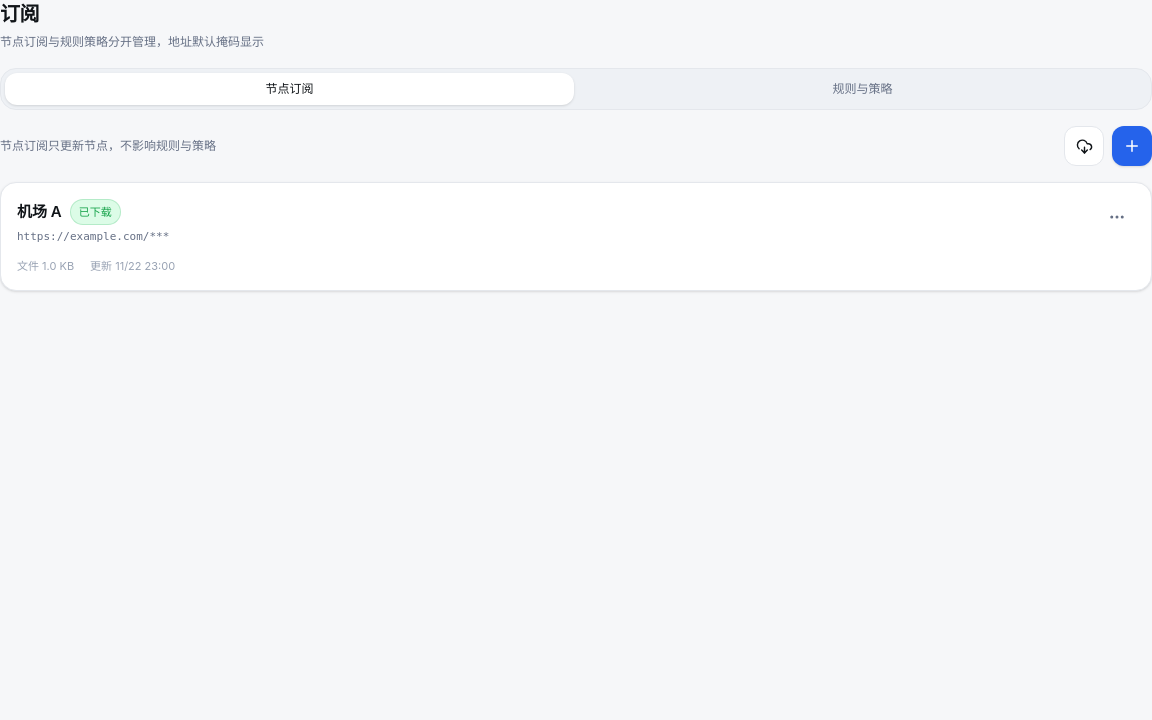
Test: SubscriptionsPage › requires a value when custom User-Agent is selected
Expected: the heading "机场 A" is shown, [17,201,62,223]
Click the button named "添加订阅".
click(1132, 146)  # box [1112,126,1151,166]
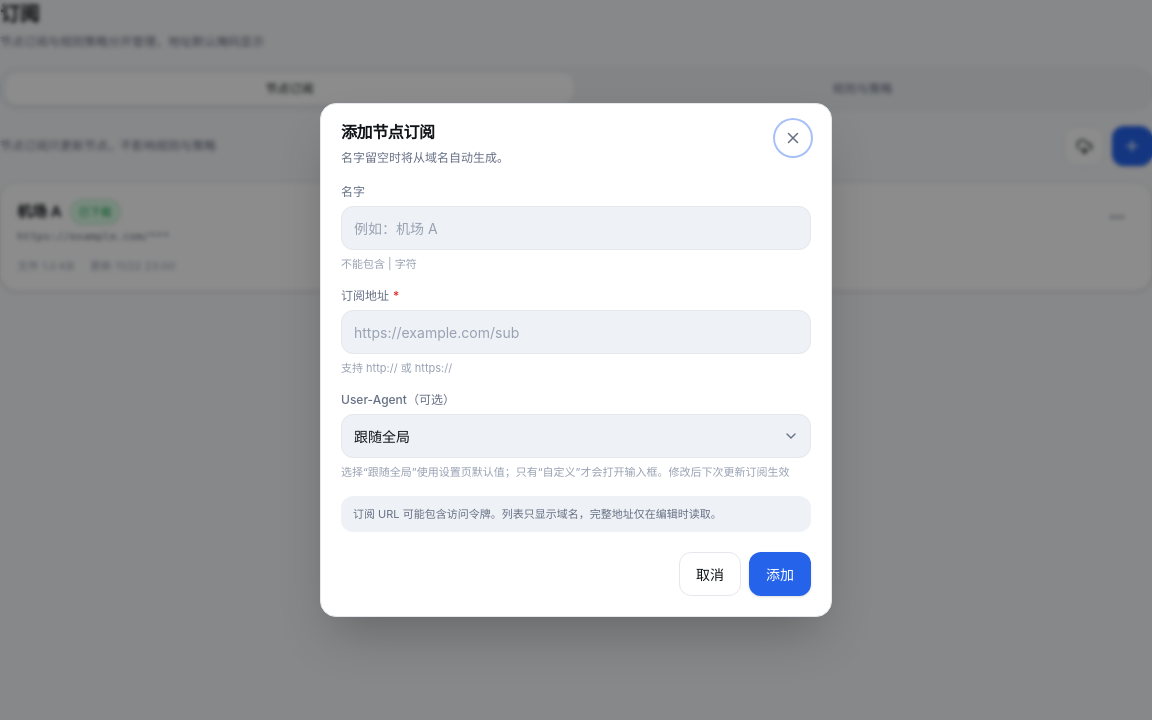
Type "测试新增" into the field labelled "名字".
click(576, 228); type("测试新增")  # box [341,206,811,250]
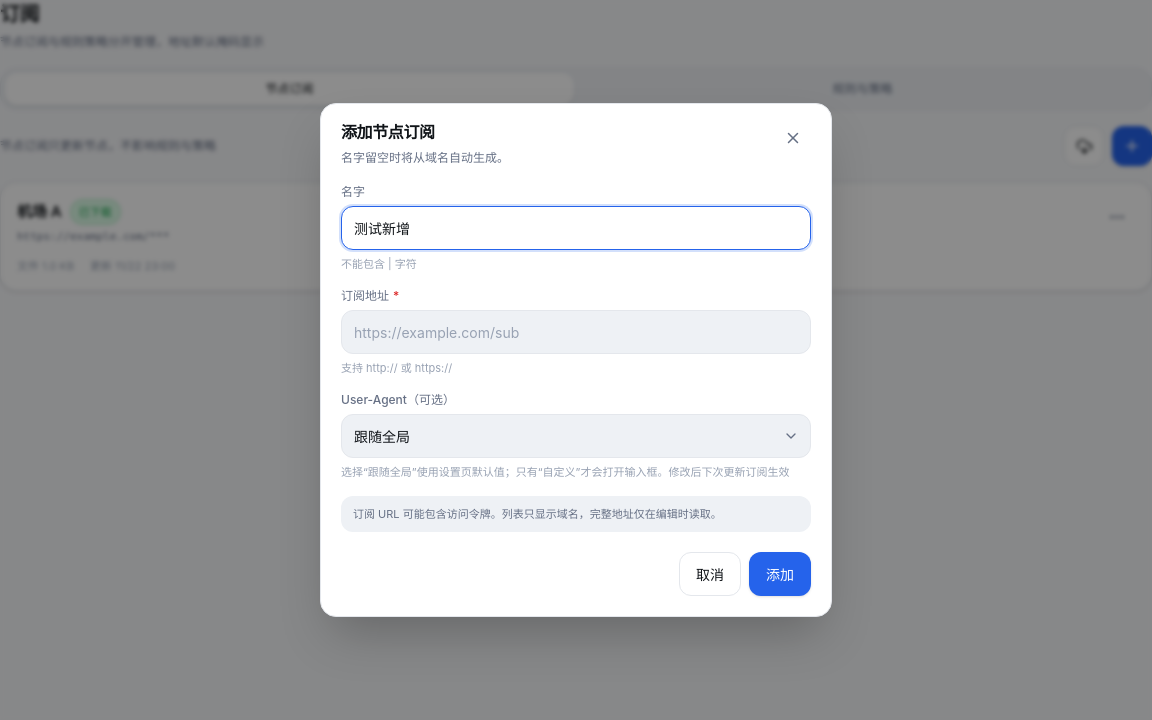
Type "https://new.example.com/sub" into the field labelled "订阅地址 *".
click(576, 332); type("https://new.example.com/sub")  # box [341,310,811,354]
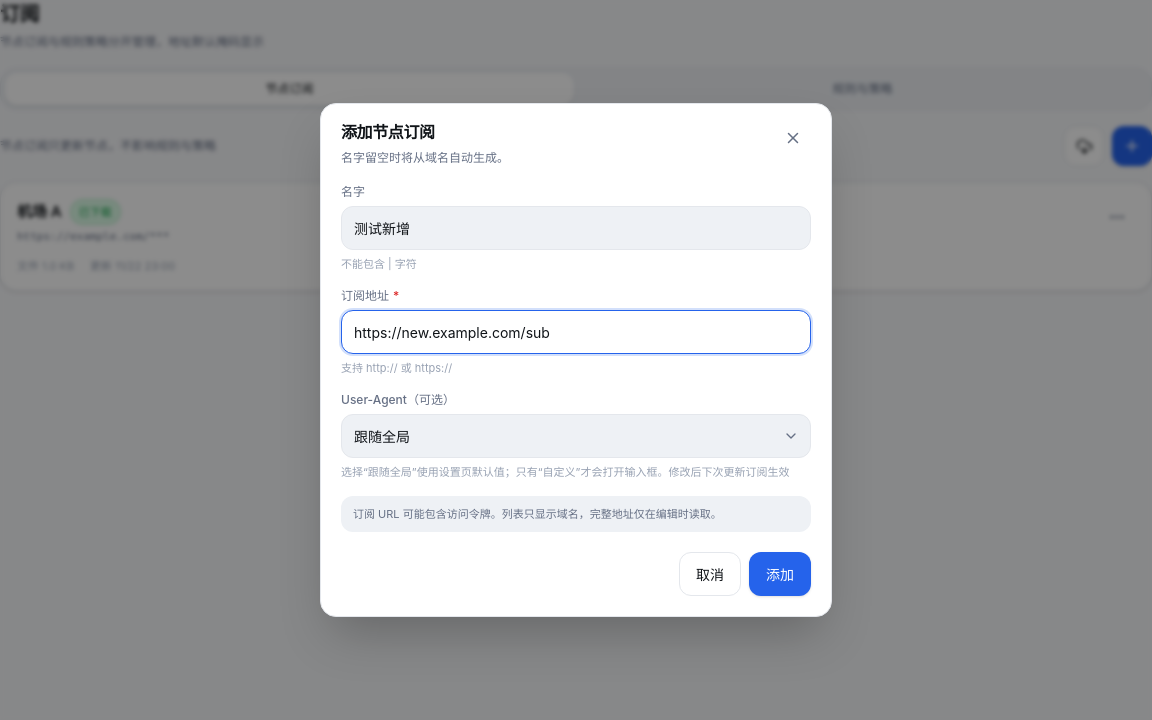
Select "自定义…" in the dropdown labelled "User-Agent（可选）" at (576, 436), box [341,414,811,458]
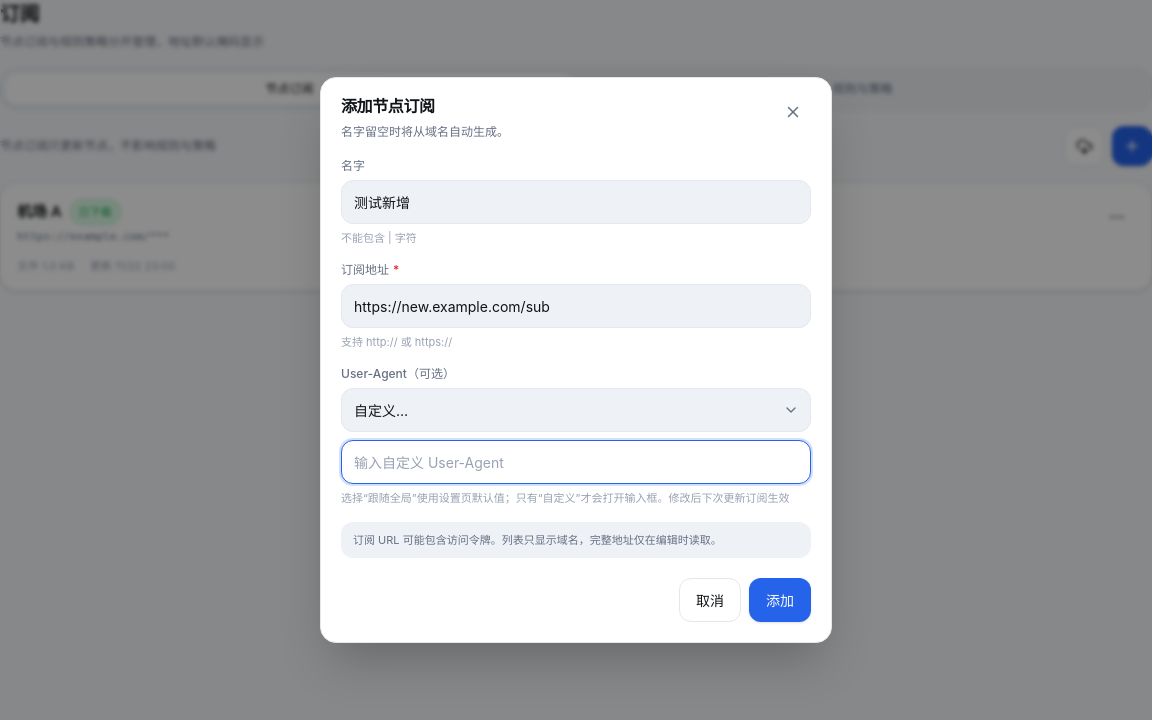
Click the button "添加".
click(780, 600)  # box [749,578,811,622]
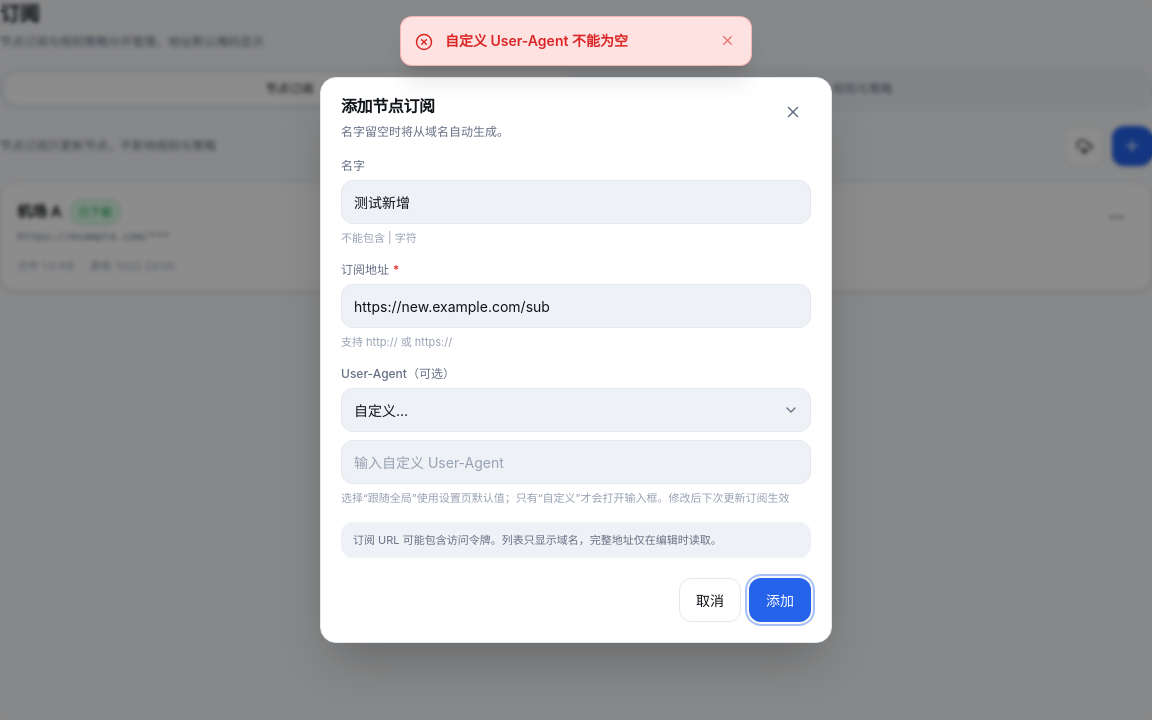
Now the dialog is shown, box [320,77,832,643]
Now the text "自定义 User-Agent 不能为空" is shown, box [445,32,628,49]
